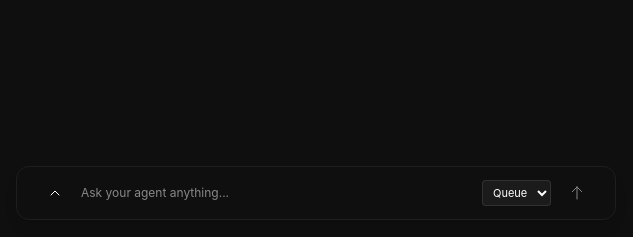
Test: FloatingChat › opens the panel picker with slash, dismisses it, and removes selected chips
Step 1. Type "/suggest" into the field with placeholder "Ask your agent anything..." → {"x": 276, "y": 193}, box x1=81 y1=184 x2=470 y2=202
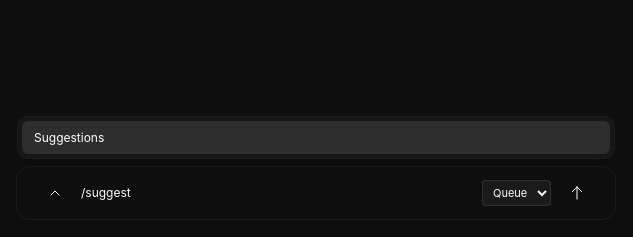
Expected: the option "Suggestions" is shown, x1=22 y1=121 x2=610 y2=154
Step 2. Press Escape in the field with placeholder "Ask your agent anything...", box x1=81 y1=184 x2=470 y2=202
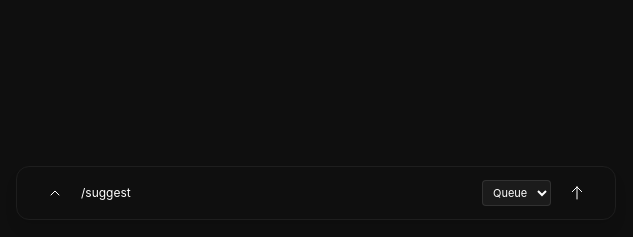
Step 3. Replace the text in the field with placeholder "Ask your agent anything..." with "/" → {"x": 276, "y": 193}, box x1=81 y1=184 x2=470 y2=202
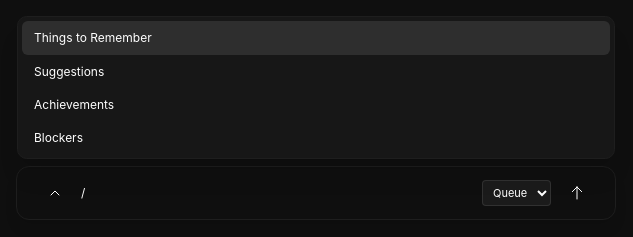
Step 4. Click the option "Things to Remember" → {"x": 93, "y": 38}, box x1=22 y1=21 x2=610 y2=54
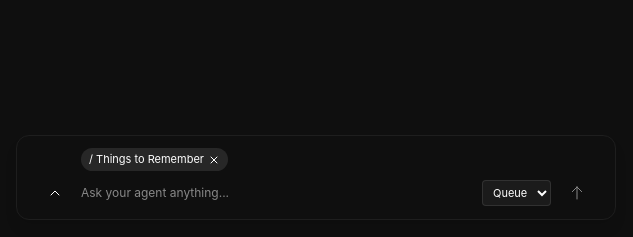
Expected: the text "/ Things to Remember" is shown, x1=81 y1=148 x2=228 y2=171
Step 5. Click the button named "Remove Things to Remember" → {"x": 214, "y": 160}, box x1=208 y1=154 x2=220 y2=166
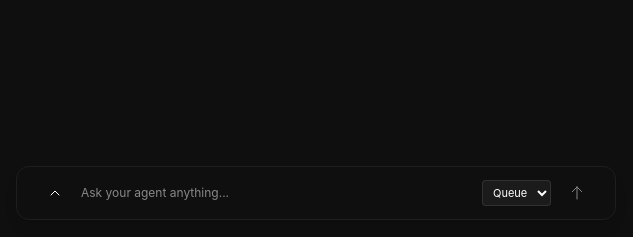
Expected: the text "/ Things to Remember" is gone
